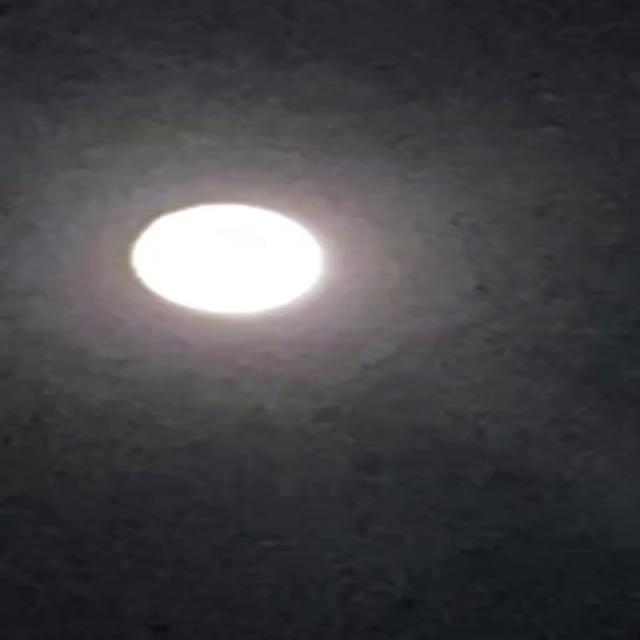moon: (105, 200, 332, 321)
